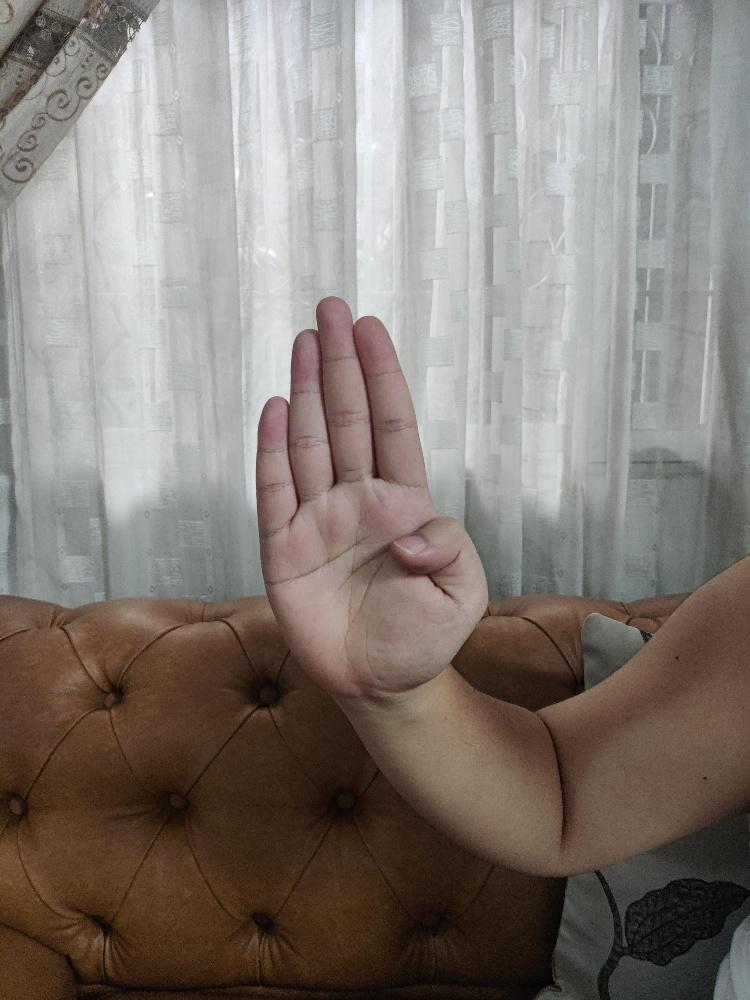b: (253, 293, 490, 694)
